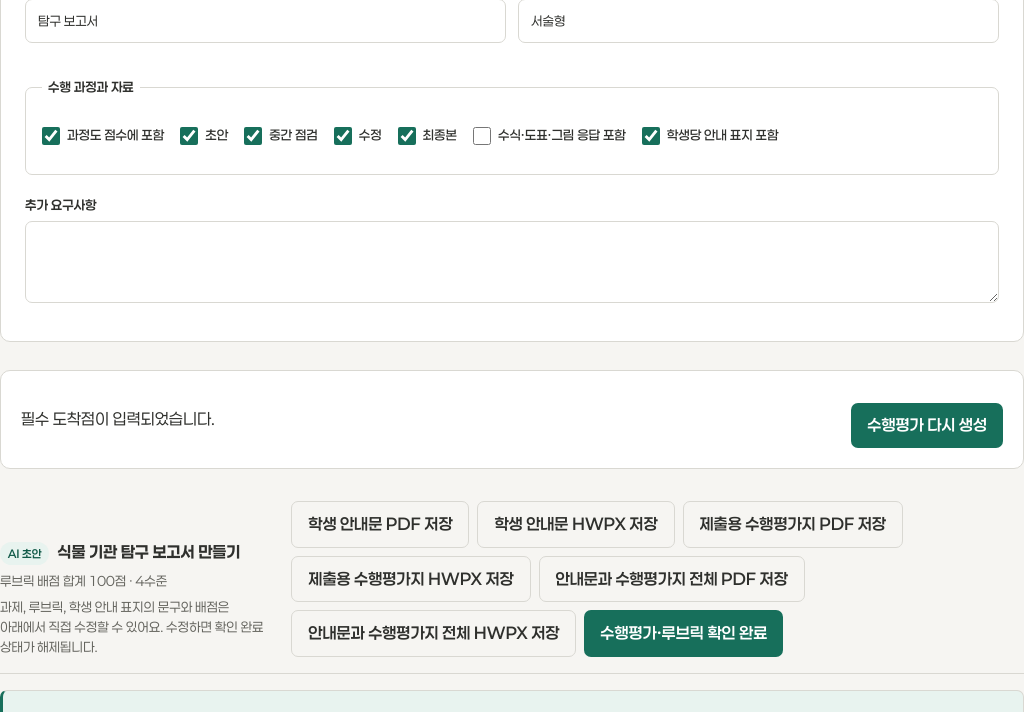
Test: 전체 재생성 결과는 후보로 보관하고 교사가 적용하거나 현재안을 유지할 수 있다
The width and height of the screenshot is (1024, 712).
(page scrolled)
What coordinates should you click on to do the following:
click the button "수행평가 다시 생성"
I would click on:
 (927, 426)
Its box is [851, 403, 1003, 448].
(page scrolled)
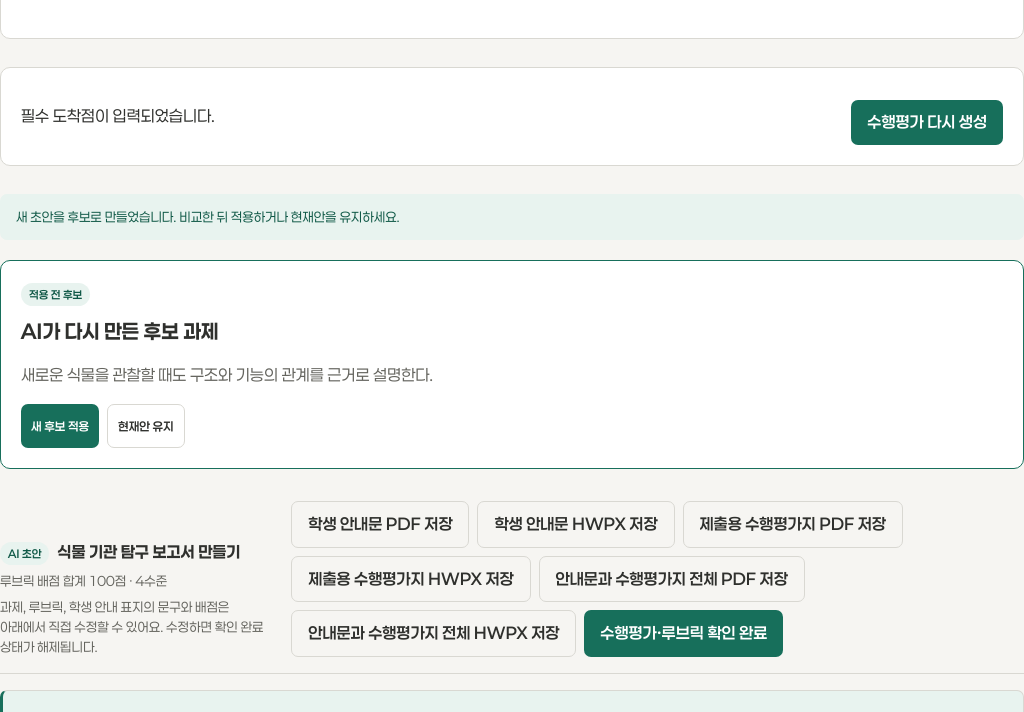
Now the heading "AI가 다시 만든 후보 과제" is shown, box [21, 319, 218, 343]
What coordinates should you click on to do the following:
click the button "현재안 유지"
I would click on:
 (146, 426)
Its box is [107, 404, 185, 448].
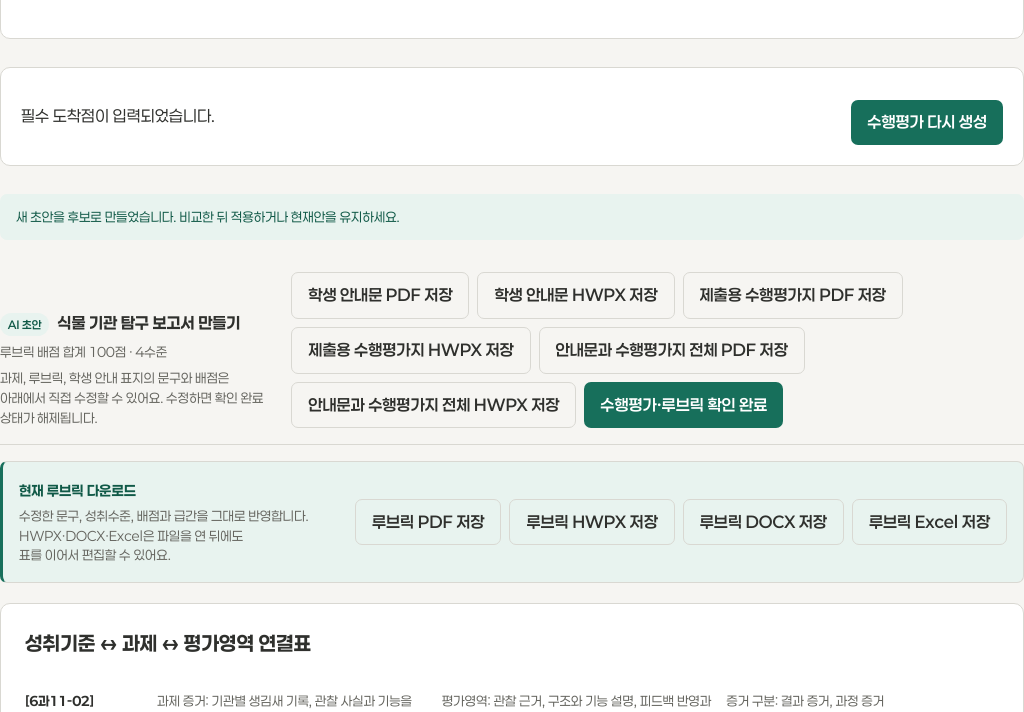
Now the heading "AI가 다시 만든 후보 과제" is gone
